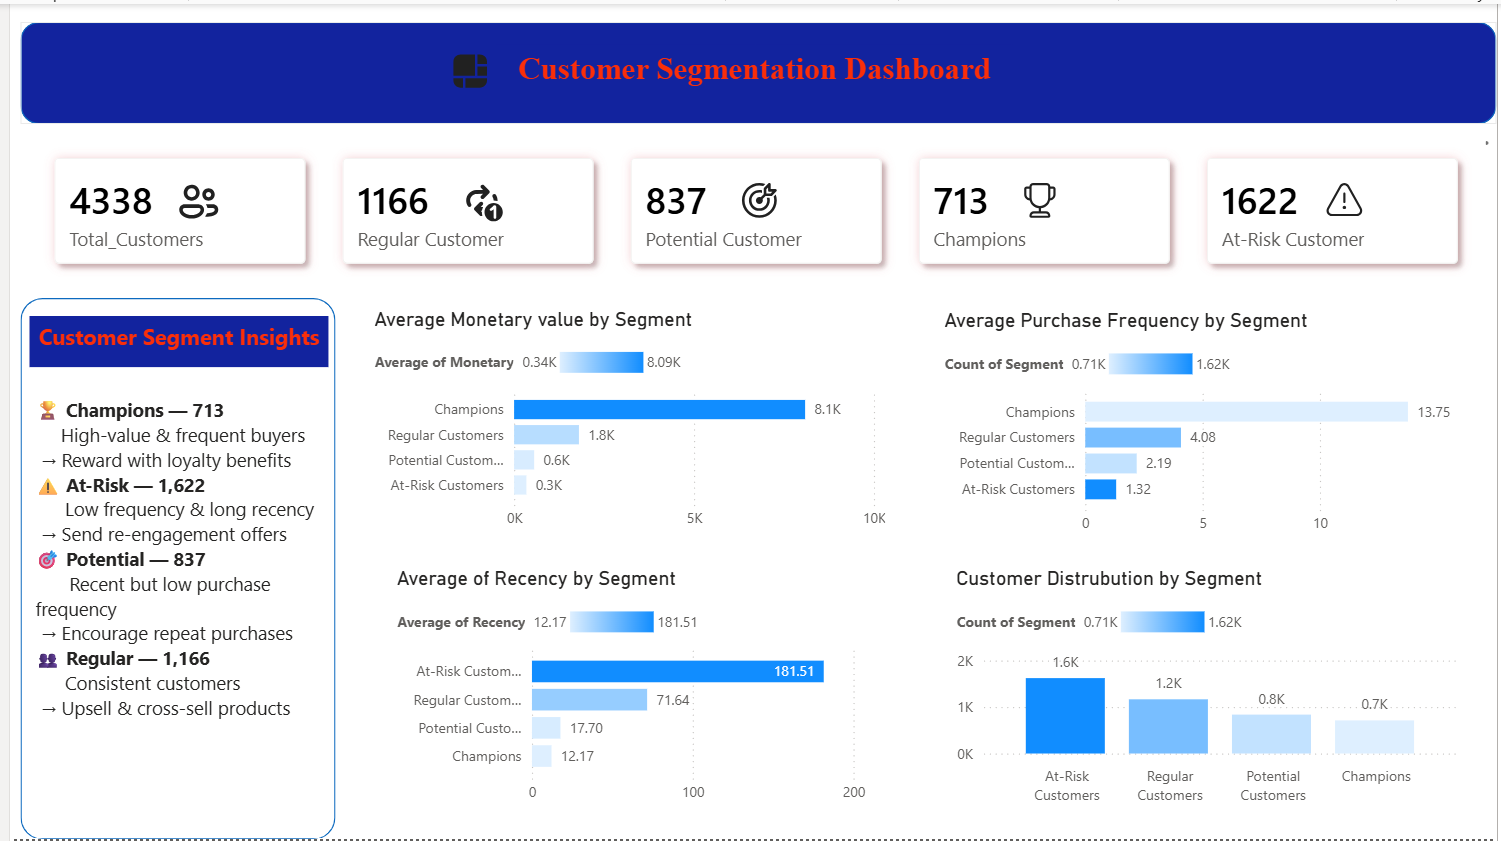

This screenshot's page, from the dashboard's own definition file:
{"tool":"powerbi","page":{"name":"Page 1","canvas":[1280,720],"ordinal":0},"visuals":[{"type":"shape","box":[9.1,15.1,1270.4,87.8],"z":0},{"type":"cardVisual","fields":{"Data":["customer_segmentation.Total_Customers","customer_segmentation.Regular Customer","customer_segmentation.Potential Customer","customer_segmentation.Champions","customer_segmentation.At-Risk Customer"]},"box":[9.1,103,1270.4,149.9],"z":1000},{"type":"shape","box":[9.1,252.9,271,466.4],"z":2000},{"type":"textbox","box":[417.9,34.8,445.2,48.5],"z":3000},{"type":"image","box":[363.4,37.9,66.6,40.9],"z":4000},{"type":"image","box":[137.8,151.4,48.5,36.3],"z":5000},{"type":"image","box":[381.6,151.4,48,36],"z":6000},{"type":"image","box":[620.8,151.4,48,36],"z":7000},{"type":"image","box":[863.1,151.4,48,36],"z":8000},{"type":"image","box":[1125.1,151.4,48,36],"z":9000},{"type":"textbox","box":[16.7,268,257.4,43.9],"z":10000},{"type":"textbox","box":[16.7,333.1,257.4,375.5],"z":11000},{"type":"shape","box":[298.3,252.9,473.9,218],"z":12000},{"type":"shape","box":[788.9,254.4,474,216.5],"z":13000},{"type":"clusteredBarChart","title":"Average Monetary value by Segment","fields":{"Y":["Avg(customer_segmentation.Monetary)"],"Category":["customer_segmentation.Segment"]},"box":[308.9,260.4,449.7,199.9],"z":14000},{"type":"clusteredBarChart","title":"Average Purchase Frequency by Segment","fields":{"Category":["customer_segmentation.Segment"],"Y":["Avg(customer_segmentation.Frequency)"]},"box":[799.5,262,452.7,202.9],"z":15000},{"type":"shape","box":[296.8,470.9,461.8,237.7],"z":16000},{"type":"clusteredBarChart","fields":{"Y":["Avg(customer_segmentation.Recency)"],"Category":["customer_segmentation.Segment"]},"box":[328.6,484.5,430,212],"z":17000},{"type":"shape","box":[799.5,470.9,463.3,237.7],"z":18000},{"type":"clusteredColumnChart","title":"Customer Distrubution by Segment","fields":{"Category":["customer_segmentation.Segment"],"Y":["Count(customer_segmentation.CustomerID)"]},"box":[810.1,484.5,442.1,212],"z":19000}]}

Visuals, with their boxes in screenshot pixels (x1, y1, x2, y2), scaled from the page's 1280x720 canvas onto the 1501x841 screenshot:
shape: left=11, top=18, right=1500, bottom=120
cardVisual - customer_segmentation.Total_Customers x customer_segmentation.Regular Customer: left=11, top=120, right=1500, bottom=295
shape: left=11, top=295, right=328, bottom=840
textbox: left=490, top=41, right=1012, bottom=97
image: left=426, top=44, right=504, bottom=92
image: left=162, top=177, right=218, bottom=219
image: left=447, top=177, right=504, bottom=219
image: left=728, top=177, right=784, bottom=219
image: left=1012, top=177, right=1068, bottom=219
image: left=1319, top=177, right=1376, bottom=219
textbox: left=20, top=313, right=321, bottom=364
textbox: left=20, top=389, right=321, bottom=828
shape: left=350, top=295, right=906, bottom=550
shape: left=925, top=297, right=1481, bottom=550
"Average Monetary value by Segment" clusteredBarChart: left=362, top=304, right=890, bottom=538
"Average Purchase Frequency by Segment" clusteredBarChart: left=938, top=306, right=1468, bottom=543
shape: left=348, top=550, right=890, bottom=828
clusteredBarChart - Avg(customer_segmentation.Recency) x customer_segmentation.Segment: left=385, top=566, right=890, bottom=814
shape: left=938, top=550, right=1481, bottom=828
"Customer Distrubution by Segment" clusteredColumnChart: left=950, top=566, right=1468, bottom=814
